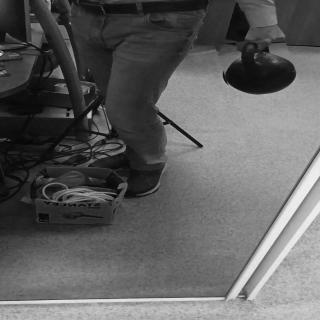kettlebell: (219, 39, 299, 97)
